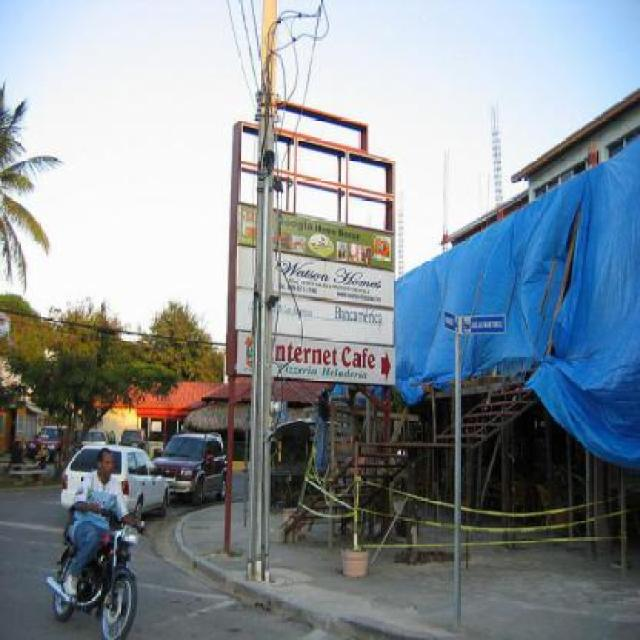Person: (62, 447, 146, 598), (312, 385, 336, 470), (27, 444, 51, 487), (9, 440, 26, 466)
